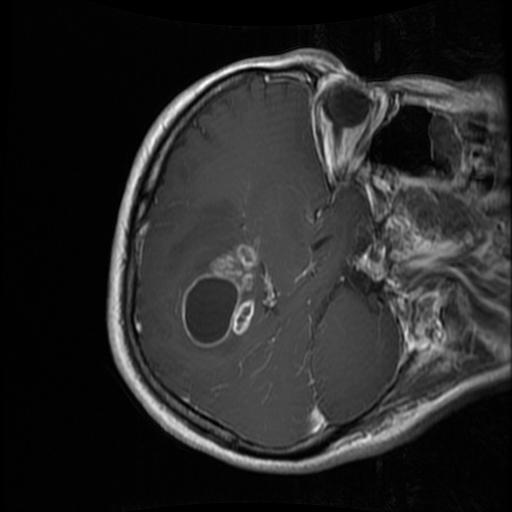glioma: (176, 242, 279, 349)
